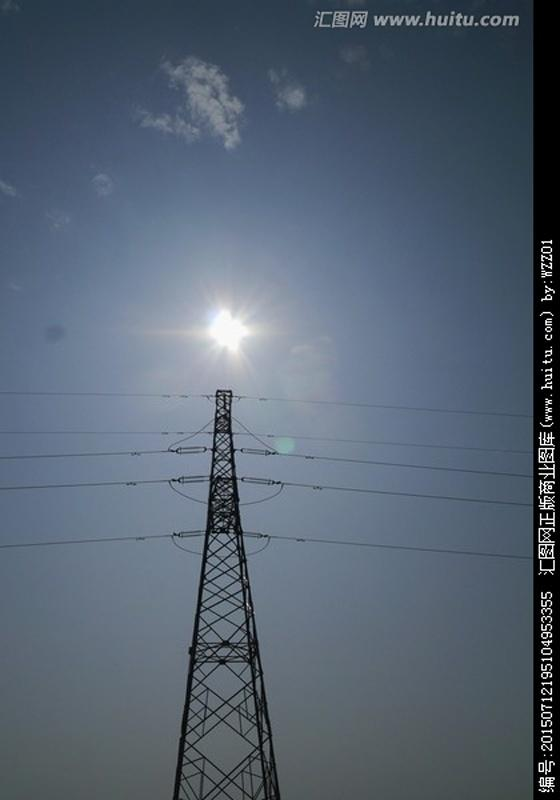power_tower: (165, 386, 289, 794)
